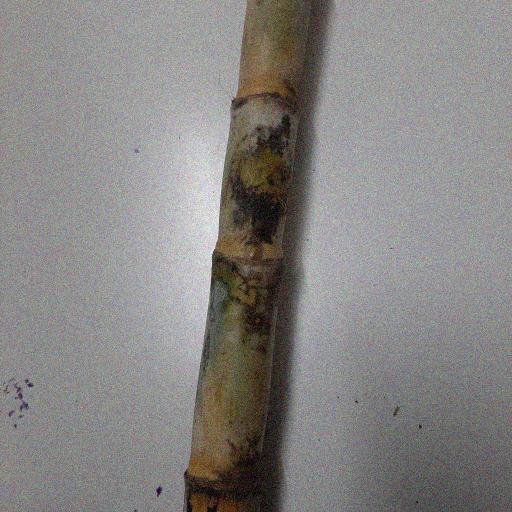Bud: (245, 242, 262, 261)
